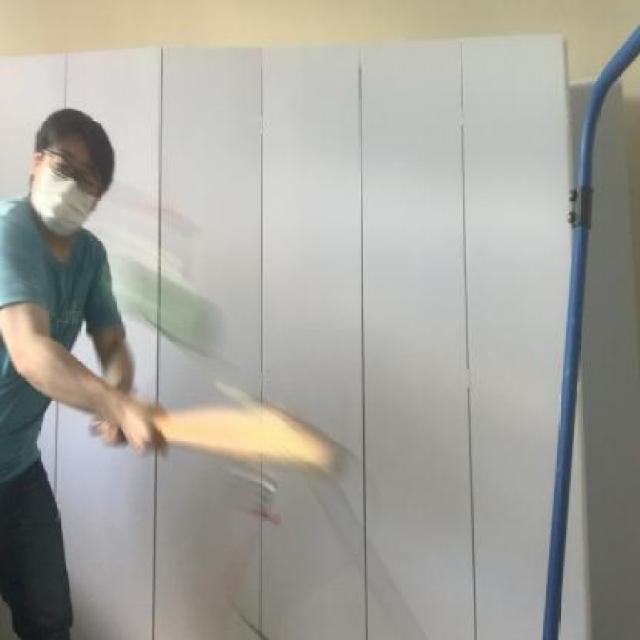baseball: (92, 252, 228, 376)
